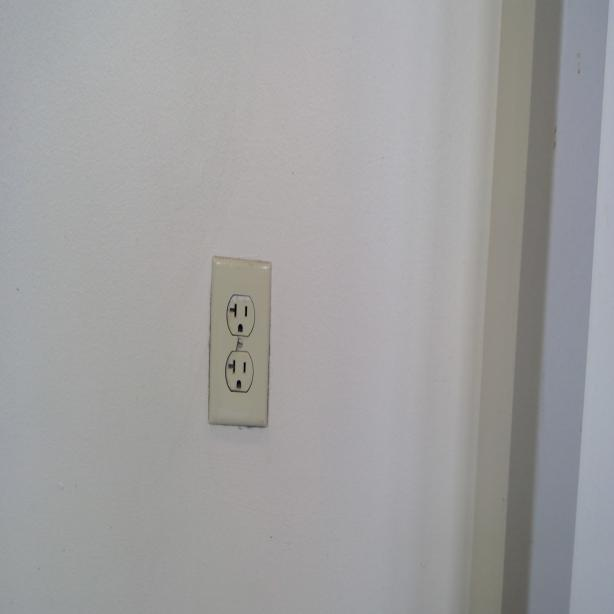typeb: (223, 294, 257, 338), (224, 351, 254, 393)
